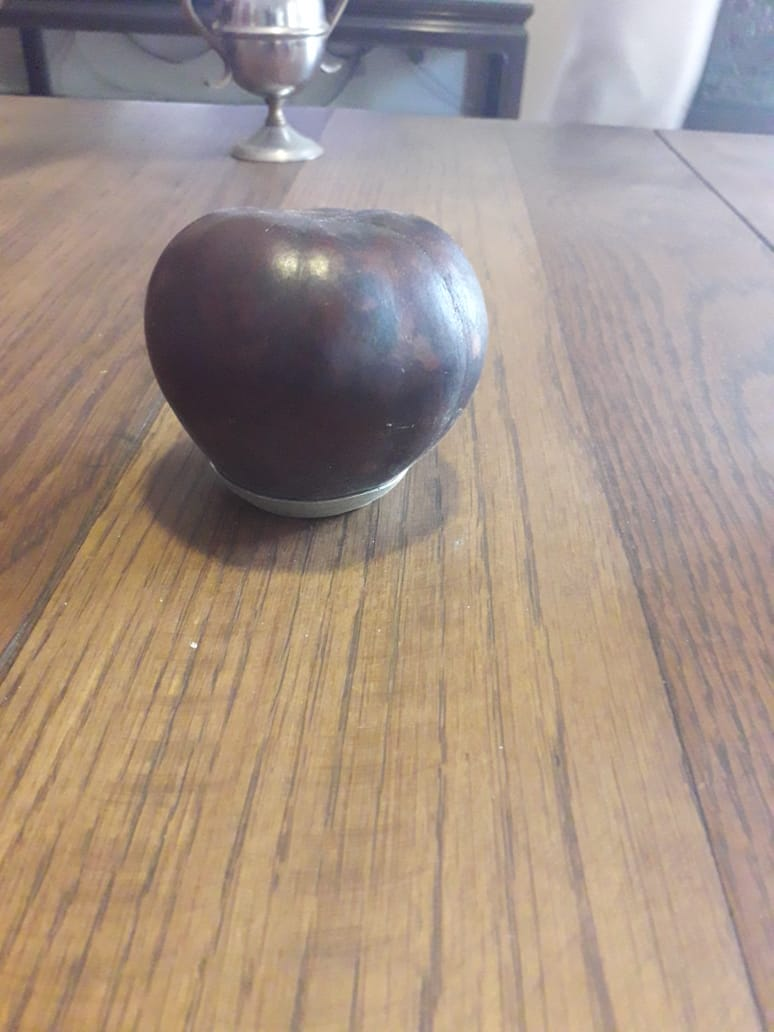calabaza: (138, 201, 497, 518)
mate: (140, 203, 499, 520)
